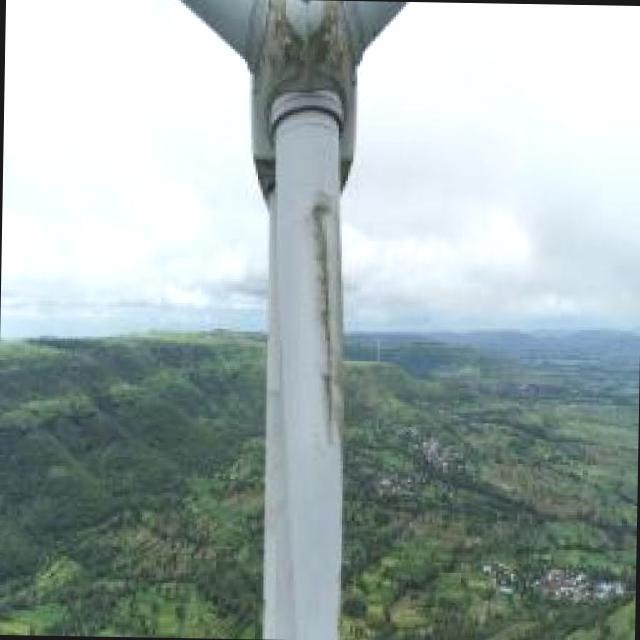Dirt: (307, 197, 350, 446)
